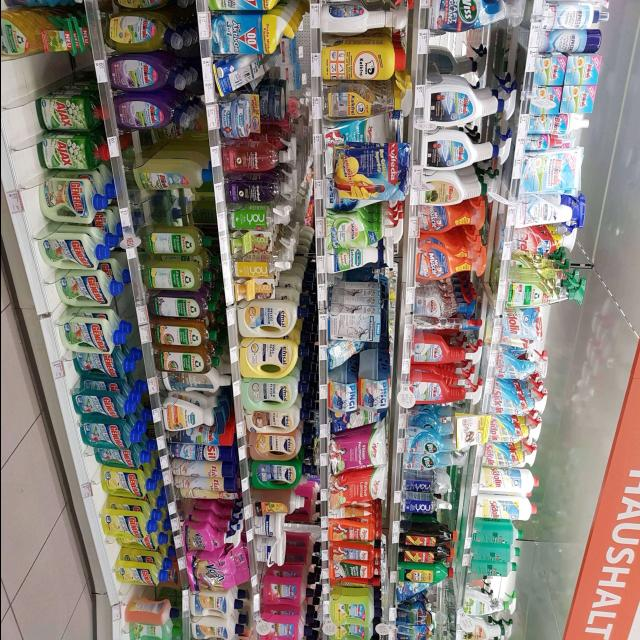empty_space: (0, 51, 85, 91), (416, 30, 492, 54), (121, 127, 187, 149), (3, 108, 39, 144), (129, 191, 167, 225), (324, 269, 380, 291), (118, 587, 164, 605), (14, 151, 42, 179), (26, 188, 44, 228), (62, 358, 78, 386)
